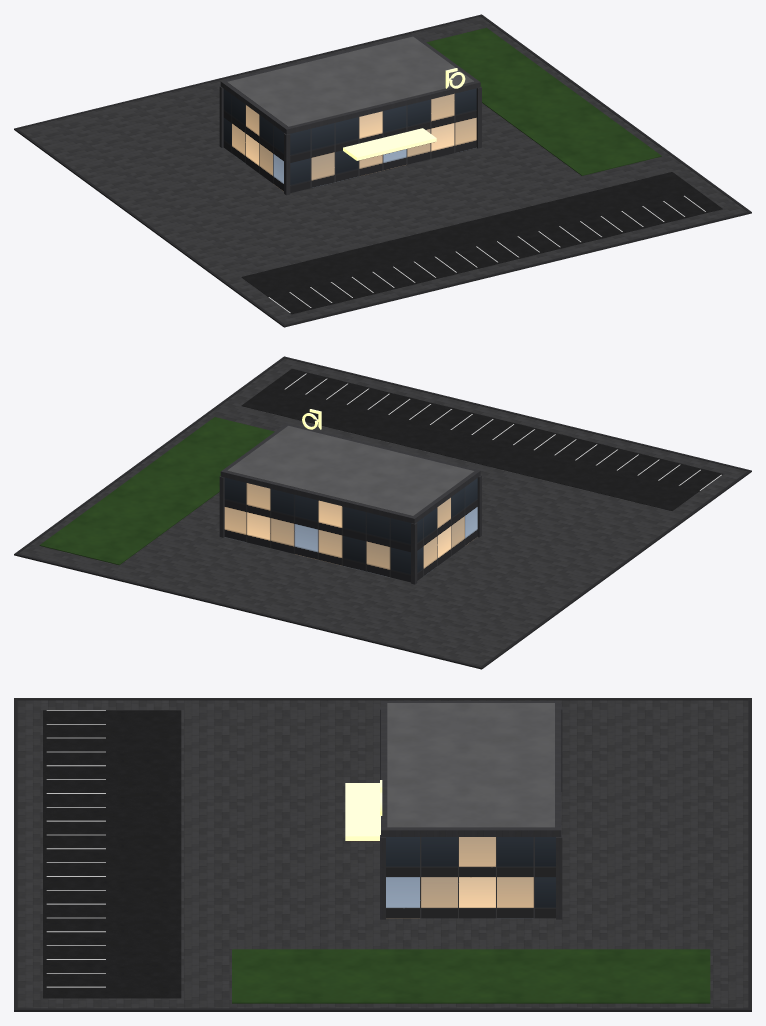
File: sponsor_L1.glb
The picture shows the model from 3 angles, top to bottom: view 1: azimuth 30°, elevation 25°; view 2: azimuth 150°, elevation 25°; view 3: azimuth 270°, elevation 25°; orthographic projection. The views are drawn at different scales.
Parts seen in each view (by area): view 1: paving_sponsor_L1, asphalt_sponsor_L1, emissive_curtain_sponsor_L1, lawn_sponsor_L1, roofing_sponsor_L1, concrete_dark_sponsor_L1, cladding_sponsor_L1, emissive_led_sponsor_L1, white_sponsor_L1; view 2: paving_sponsor_L1, asphalt_sponsor_L1, emissive_curtain_sponsor_L1, lawn_sponsor_L1, roofing_sponsor_L1, concrete_dark_sponsor_L1, cladding_sponsor_L1, white_sponsor_L1; view 3: paving_sponsor_L1, asphalt_sponsor_L1, lawn_sponsor_L1, roofing_sponsor_L1, emissive_curtain_sponsor_L1, concrete_dark_sponsor_L1, cladding_sponsor_L1, emissive_led_sponsor_L1, white_sponsor_L1.
Part boxes in pixels (x1=…): paving_sponsor_L1: x1=18, y1=16, x2=747, y2=324; asphalt_sponsor_L1: x1=241, y1=172, x2=722, y2=314; emissive_curtain_sponsor_L1: x1=223, y1=88, x2=476, y2=192; lawn_sponsor_L1: x1=426, y1=27, x2=661, y2=175; roofing_sponsor_L1: x1=227, y1=36, x2=473, y2=126; concrete_dark_sponsor_L1: x1=14, y1=14, x2=751, y2=327; cladding_sponsor_L1: x1=219, y1=34, x2=481, y2=195; emissive_led_sponsor_L1: x1=343, y1=68, x2=465, y2=160; white_sponsor_L1: x1=268, y1=195, x2=705, y2=312; paving_sponsor_L1: x1=18, y1=358, x2=747, y2=666; asphalt_sponsor_L1: x1=241, y1=369, x2=722, y2=510; emissive_curtain_sponsor_L1: x1=224, y1=477, x2=477, y2=582; lawn_sponsor_L1: x1=39, y1=417, x2=274, y2=565; roofing_sponsor_L1: x1=227, y1=426, x2=474, y2=515; concrete_dark_sponsor_L1: x1=14, y1=356, x2=751, y2=669; cladding_sponsor_L1: x1=219, y1=423, x2=481, y2=584; white_sponsor_L1: x1=284, y1=373, x2=721, y2=490; paving_sponsor_L1: x1=17, y1=700, x2=748, y2=1008; asphalt_sponsor_L1: x1=43, y1=710, x2=181, y2=998; lawn_sponsor_L1: x1=232, y1=949, x2=710, y2=1003; roofing_sponsor_L1: x1=387, y1=703, x2=554, y2=827; emissive_curtain_sponsor_L1: x1=386, y1=837, x2=555, y2=918; concrete_dark_sponsor_L1: x1=14, y1=698, x2=751, y2=1011; cladding_sponsor_L1: x1=380, y1=701, x2=562, y2=919; emissive_led_sponsor_L1: x1=345, y1=780, x2=382, y2=840; white_sponsor_L1: x1=46, y1=710, x2=105, y2=987.
Bounding box in the file's own units: 58.6 × 10.3 × 58.6.
Materials: 10 (7 with a texture image).
